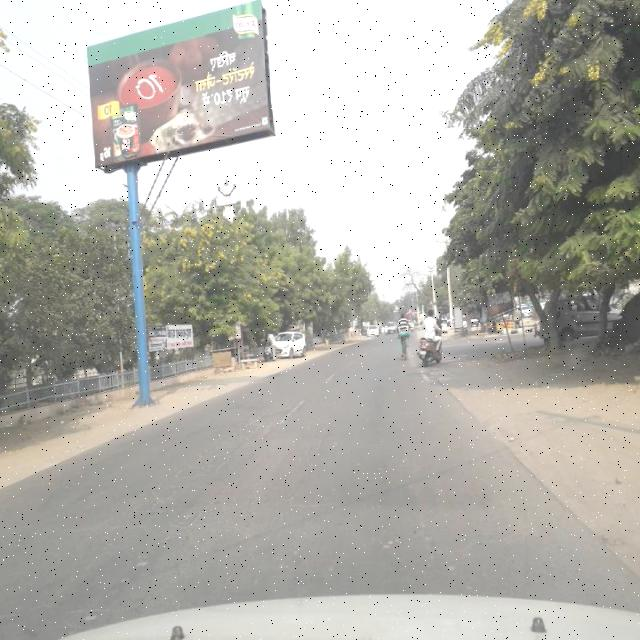D20: (151, 414, 269, 523)
